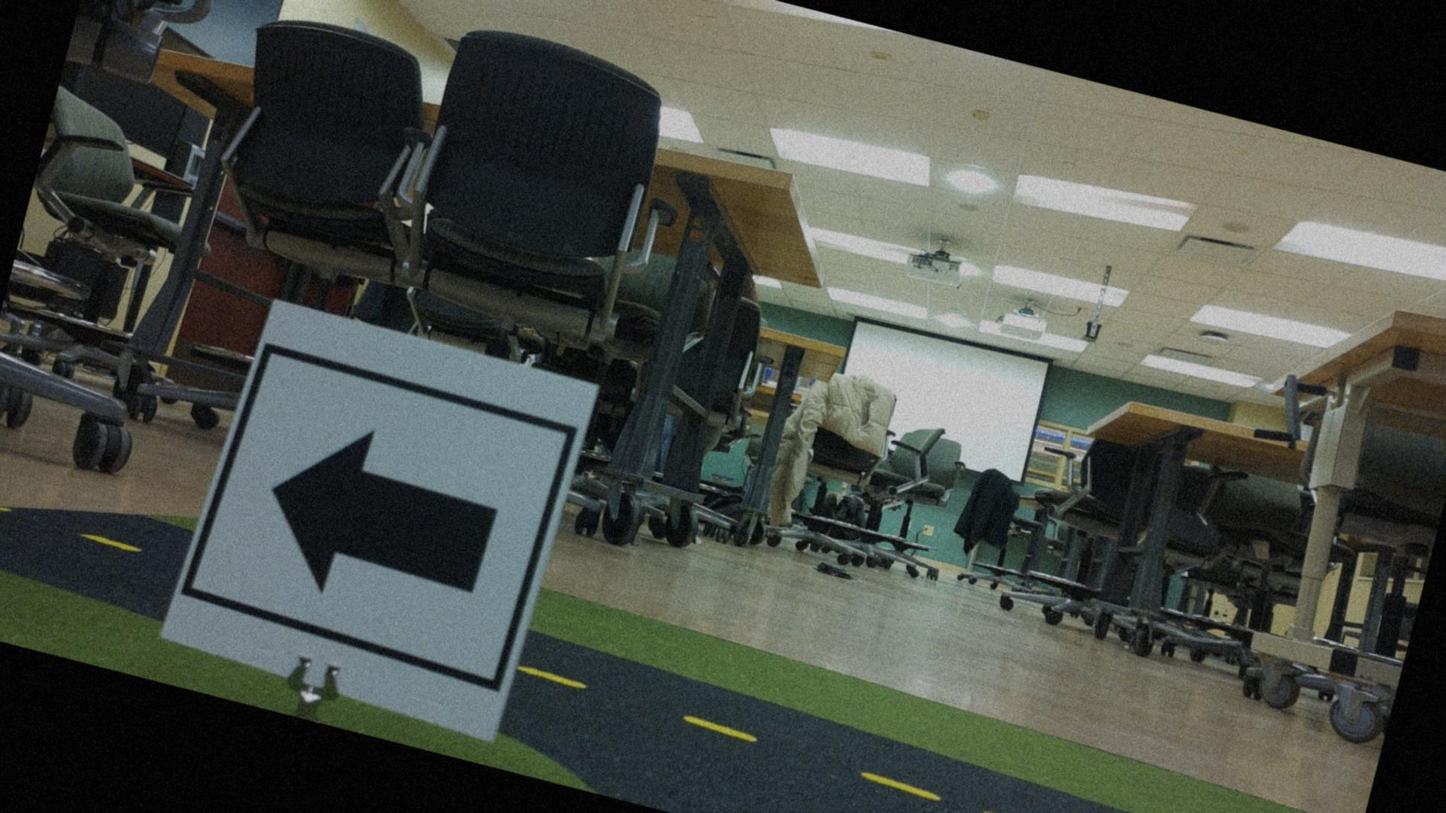turnleft: (200, 312, 579, 690)
yellowline: (509, 663, 1350, 812)
